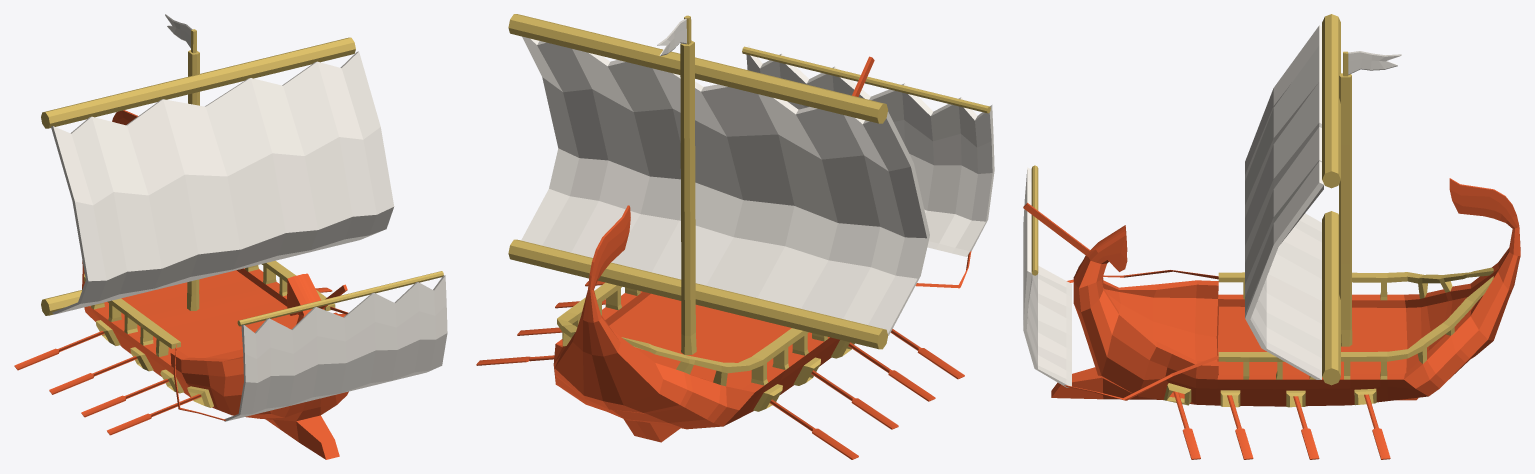
The model's file is Barquito.fbx.
The picture shows the model from 3 angles, left to right: view 1: azimuth 30°, elevation 25°; view 2: azimuth 150°, elevation 25°; view 3: azimuth 270°, elevation 25°; orthographic projection. The views are drawn at different scales.
Visible parts, largest first — view 1: Velote, Barquito, Velita; view 2: Velote, Barquito, Velita; view 3: Barquito, Velote, Velita.
Part boxes in pixels (<box>): Velote: <box>51,51,394,314</box>; Barquito: <box>14,14,443,459</box>; Velita: <box>224,275,447,421</box>; Velote: <box>521,36,929,335</box>; Barquito: <box>476,14,990,459</box>; Velita: <box>746,45,994,256</box>; Barquito: <box>1023,14,1520,459</box>; Velote: <box>1245,25,1323,379</box>; Velita: <box>1023,167,1071,387</box>.
Bounding box in the file's own units: 86.58 × 85.82 × 113.
